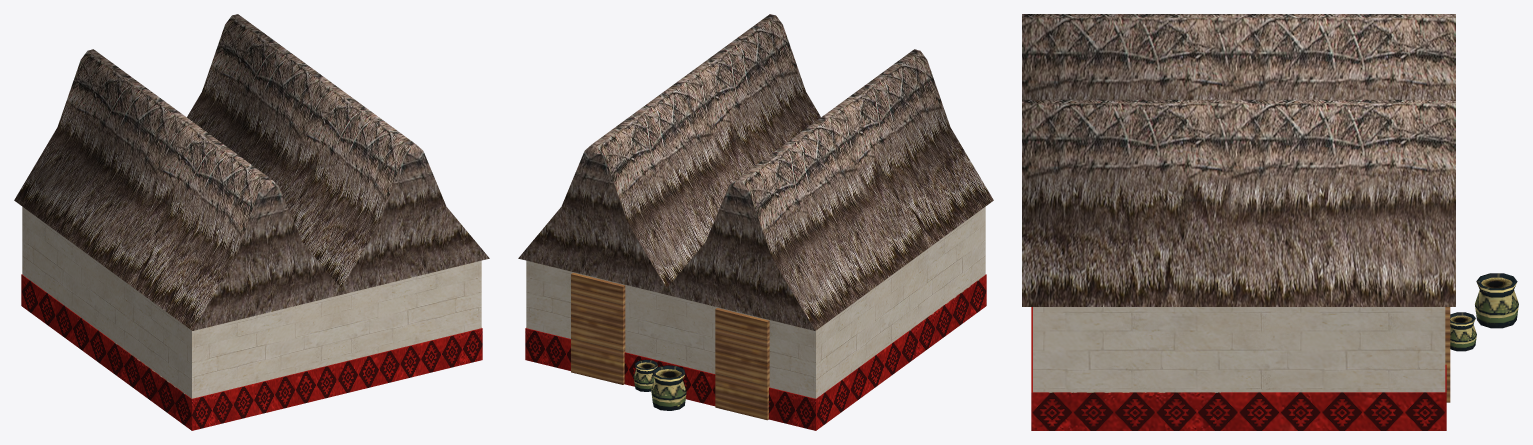
Rendered from house_3.dae.
3 views of the same model, side by side, from view 1: azimuth 30°, elevation 25°; view 2: azimuth 150°, elevation 25°; view 3: azimuth 270°, elevation 25° (orthographic). The views are drawn at different scales.
Visible parts, largest first — view 1: house_3; view 2: house_3; view 3: house_3.
Boxes of the visible parts, x1,y1,x2,y2 form: house_3: (14,14,489,430); house_3: (518,14,993,430); house_3: (1022,14,1518,430).
Size of the model in its own units: 12.85 by 15.3 by 9.72.
